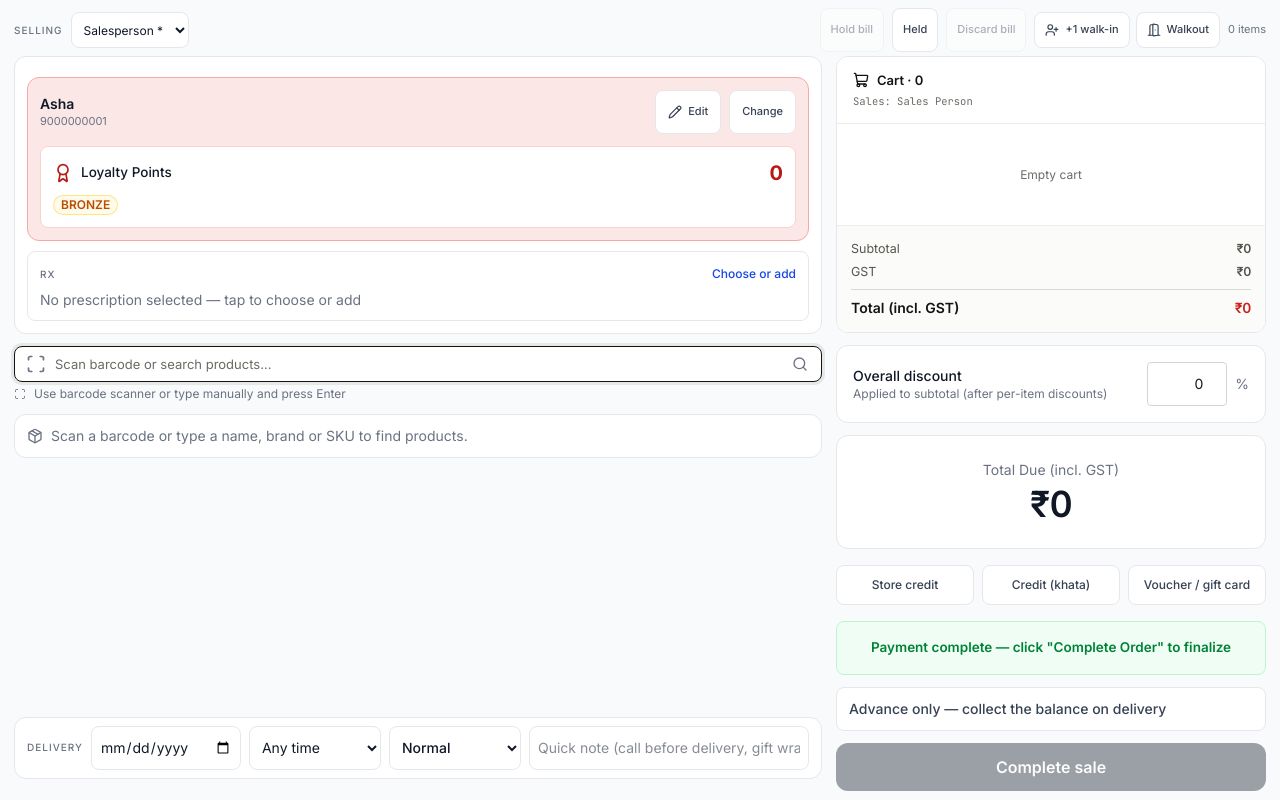
Test: the real PrescriptionForm routes a missing axis into the prompt › opens the modal for a toric RIGHT eye with a blank axis
Click the button "Choose or add" at [754, 274], box 27,251 -> 809,321
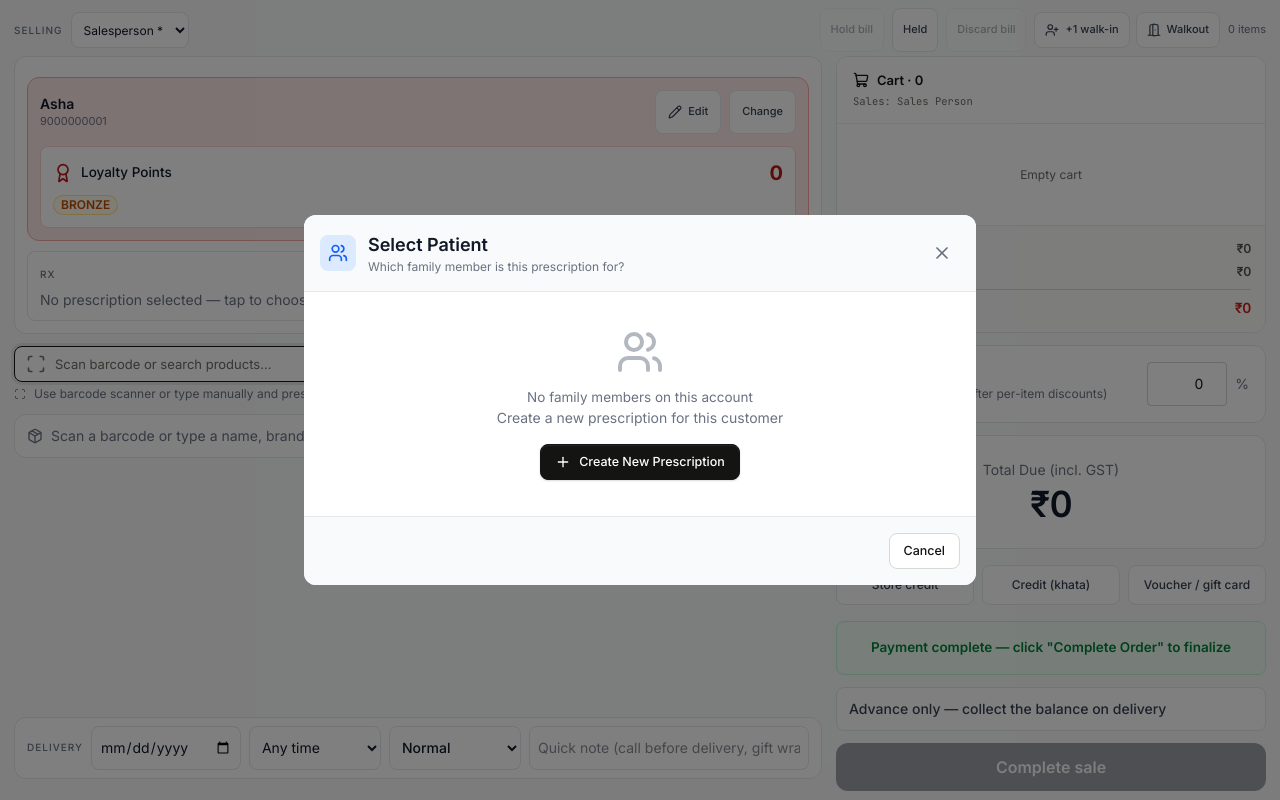
Click the button "Create New Prescription" at [640, 462], box 540,444 -> 740,480
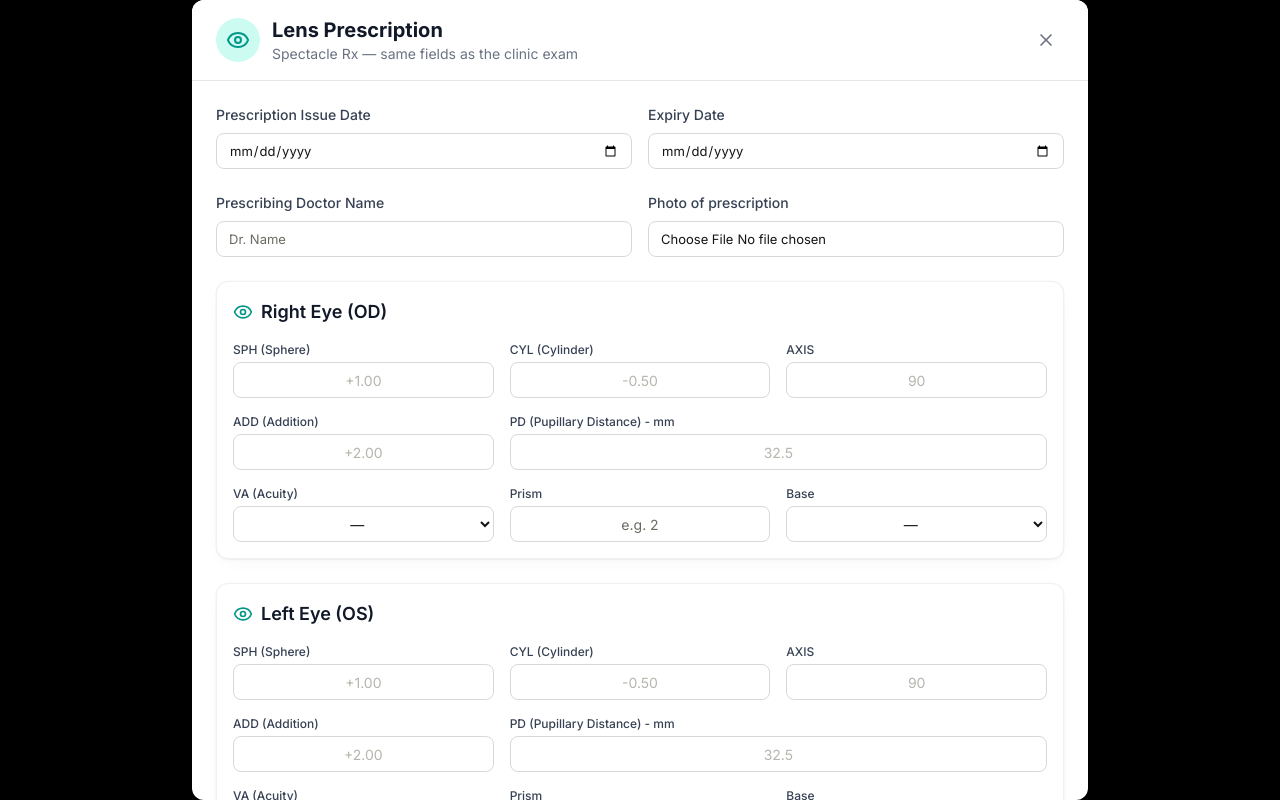
Now the heading "New Prescription" is shown, box 320,374 -> 432,393
Type "-2.00" into the field named "Right eye sphere" at [363, 380], box 233,362 -> 494,398
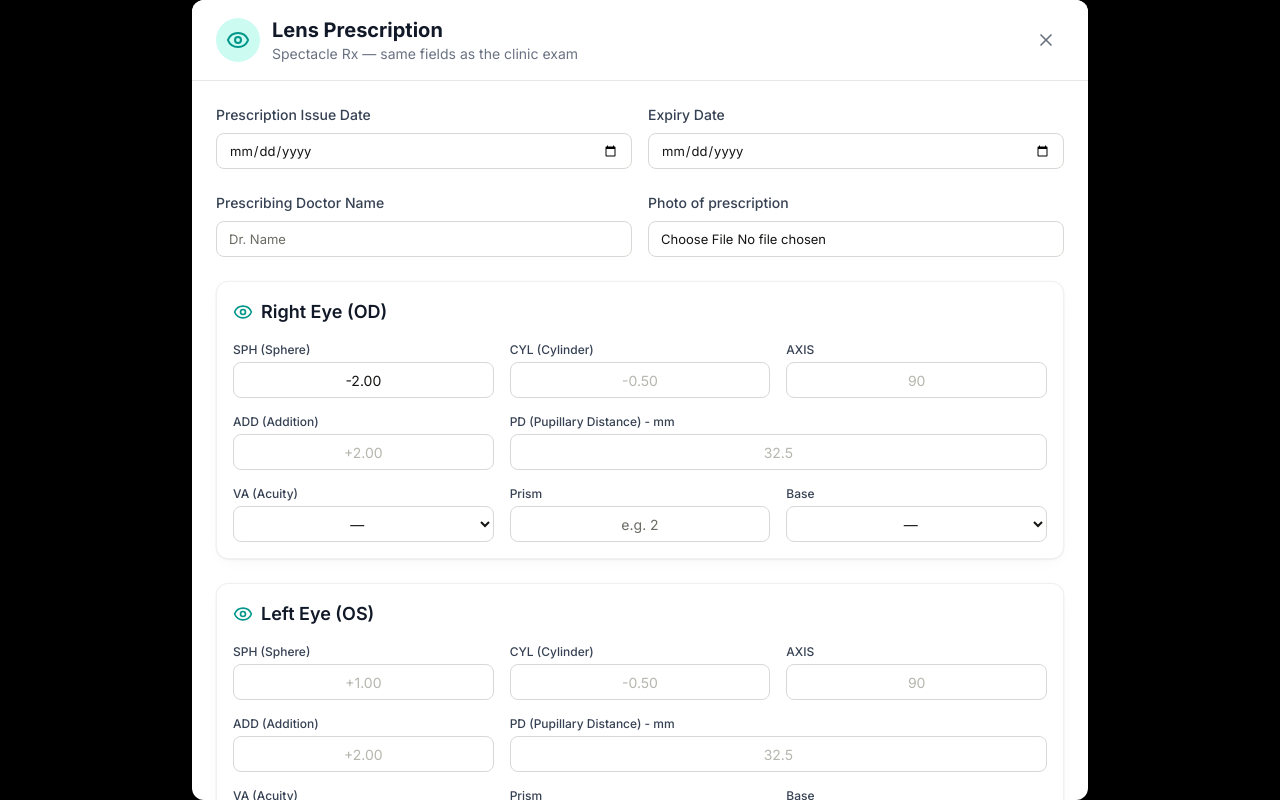
Type "-1.25" into the field named "Right eye cylinder" at [640, 380], box 510,362 -> 770,398
(page scrolled)
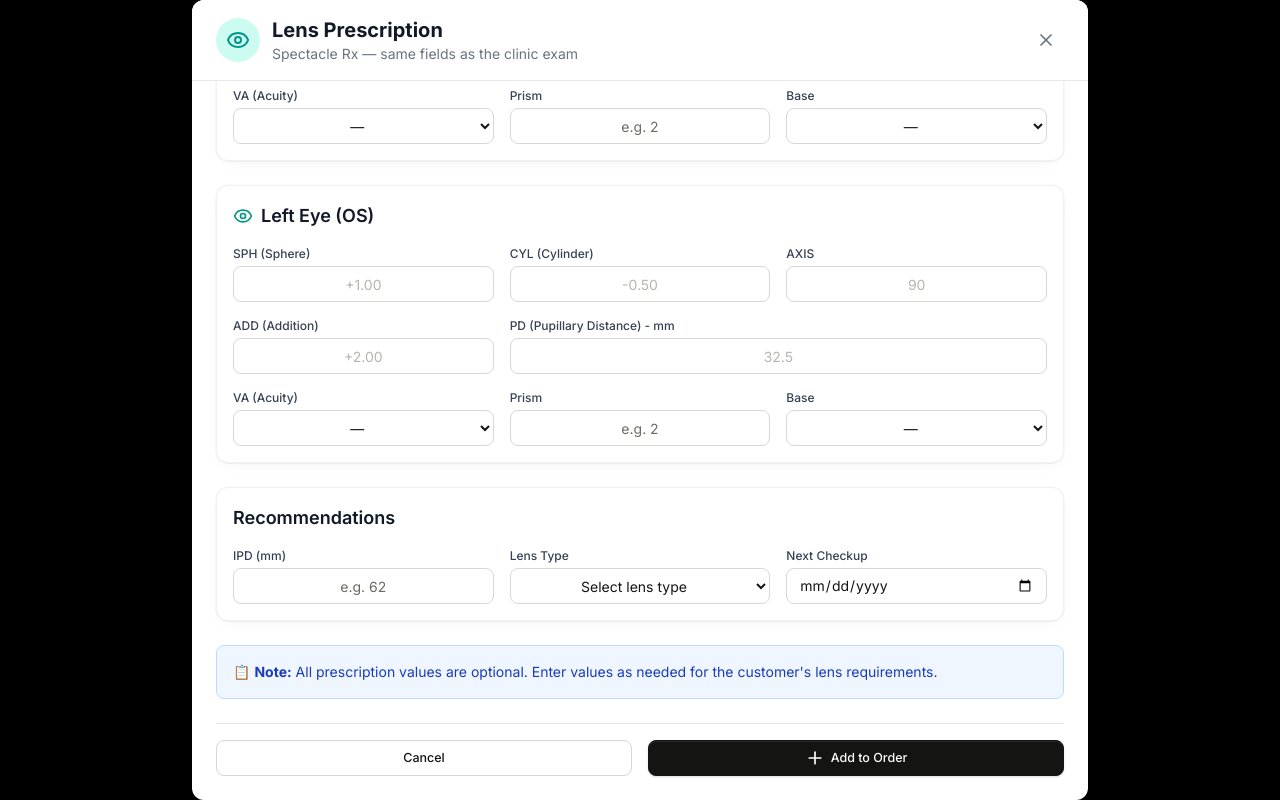
Click the button "Add to Order" at [856, 758], box 648,740 -> 1064,776
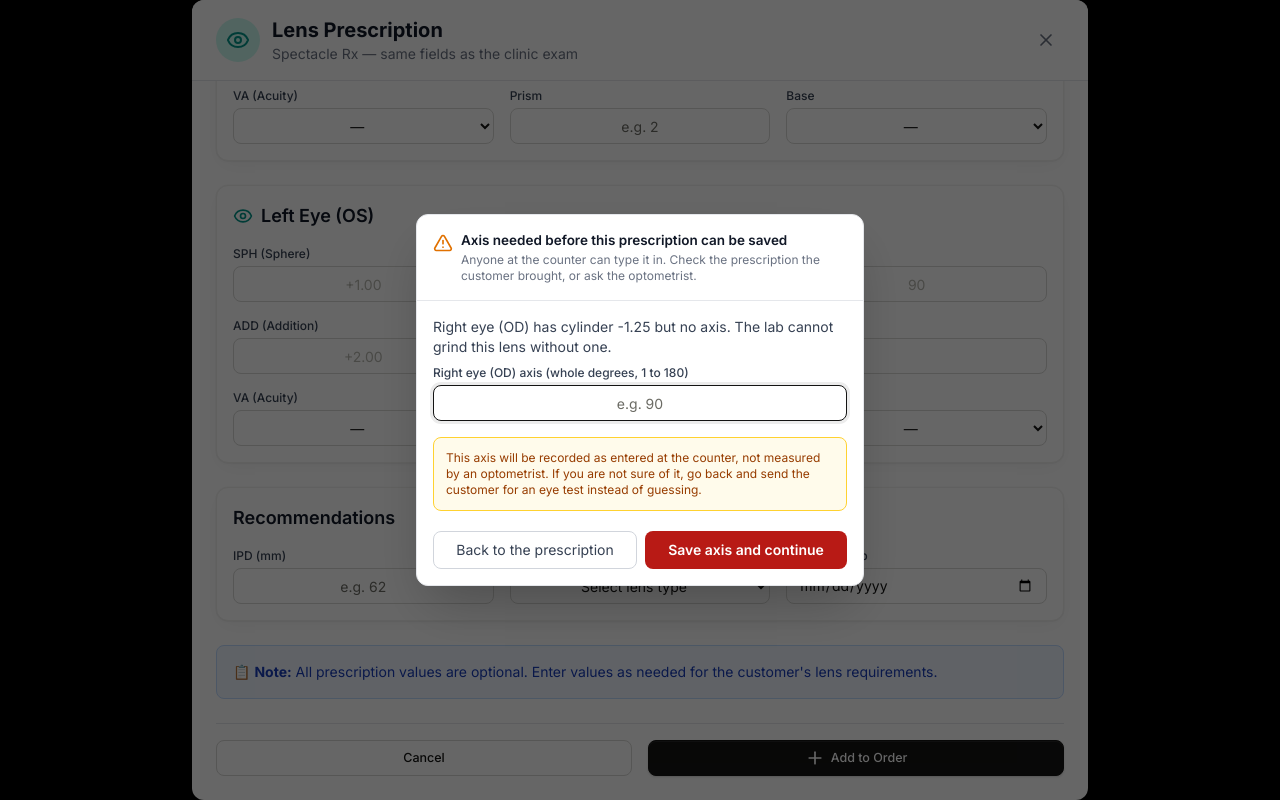
Now the heading "Axis needed before this prescription can be saved" is shown, box 461,232 -> 787,248
Now the text "Right eye (OD) has cylinder -1.25 but no axis" is shown, box 433,318 -> 833,355
